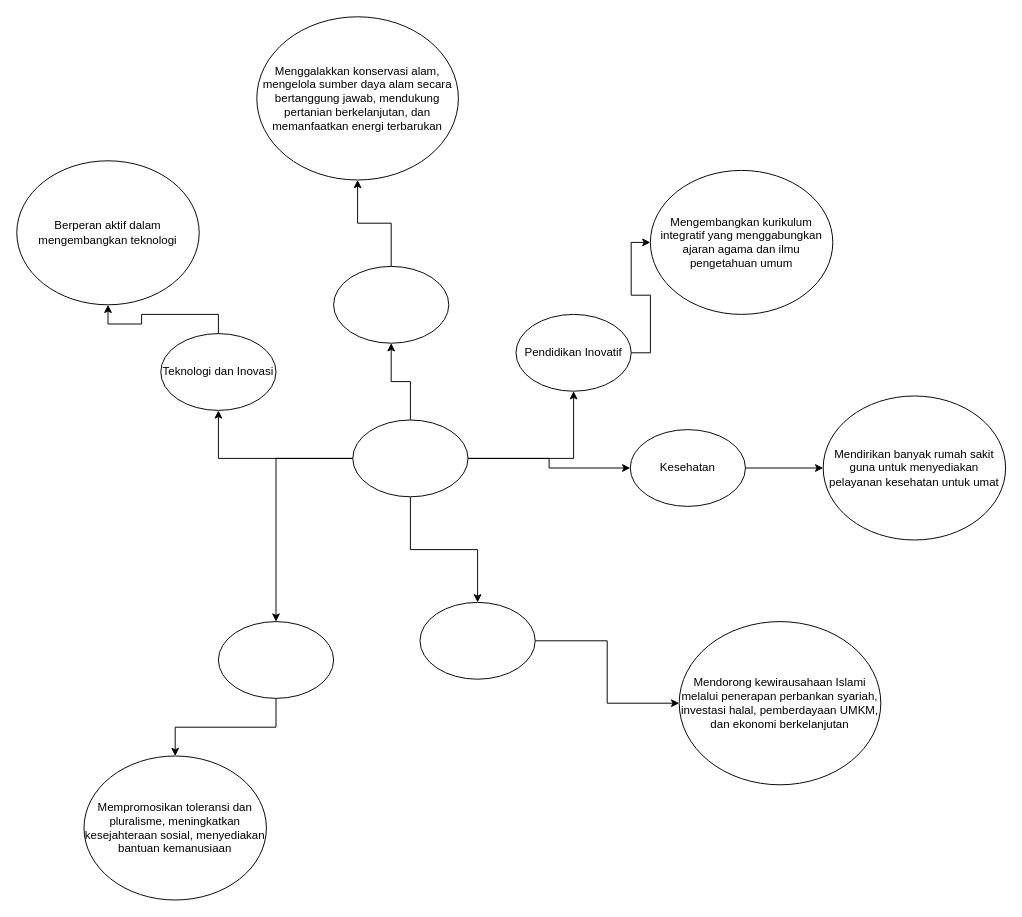
Some shapes in this 1022 by 917 pixel diagram are drawn without their labels. Each missing label, with the box of its shape:
Ekonomi Syariah: (419, 601, 535, 679)
Islam Berkemajuan: (352, 419, 468, 497)
Lingkungan Hidup: (333, 265, 449, 343)
Sosial dan Budaya: (217, 621, 334, 698)
